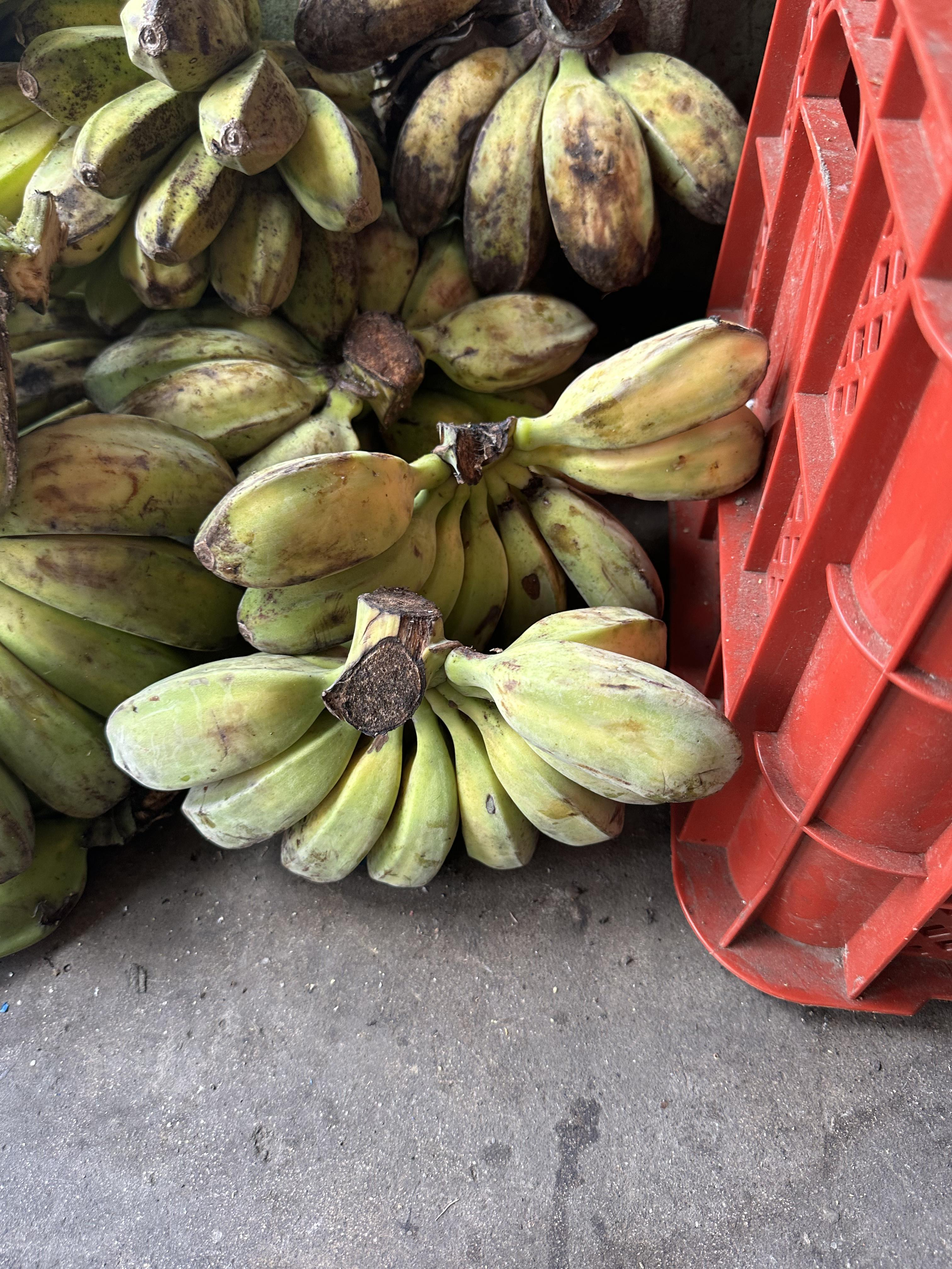underripe: (192, 317, 771, 654), (105, 603, 743, 890), (16, 0, 381, 315), (0, 414, 240, 881), (392, 49, 746, 293), (281, 203, 595, 392), (83, 298, 362, 486)
